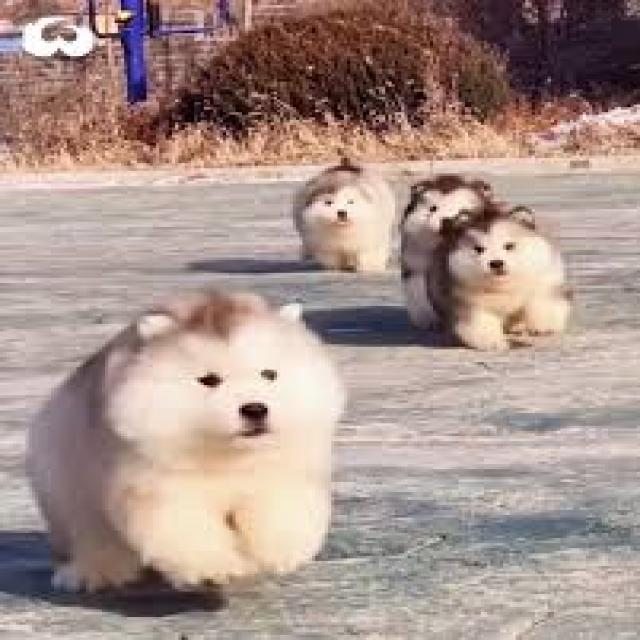ALASKAN_MALAMUTE: (13, 284, 357, 601), (425, 203, 576, 365), (386, 174, 499, 298), (285, 153, 399, 275)
